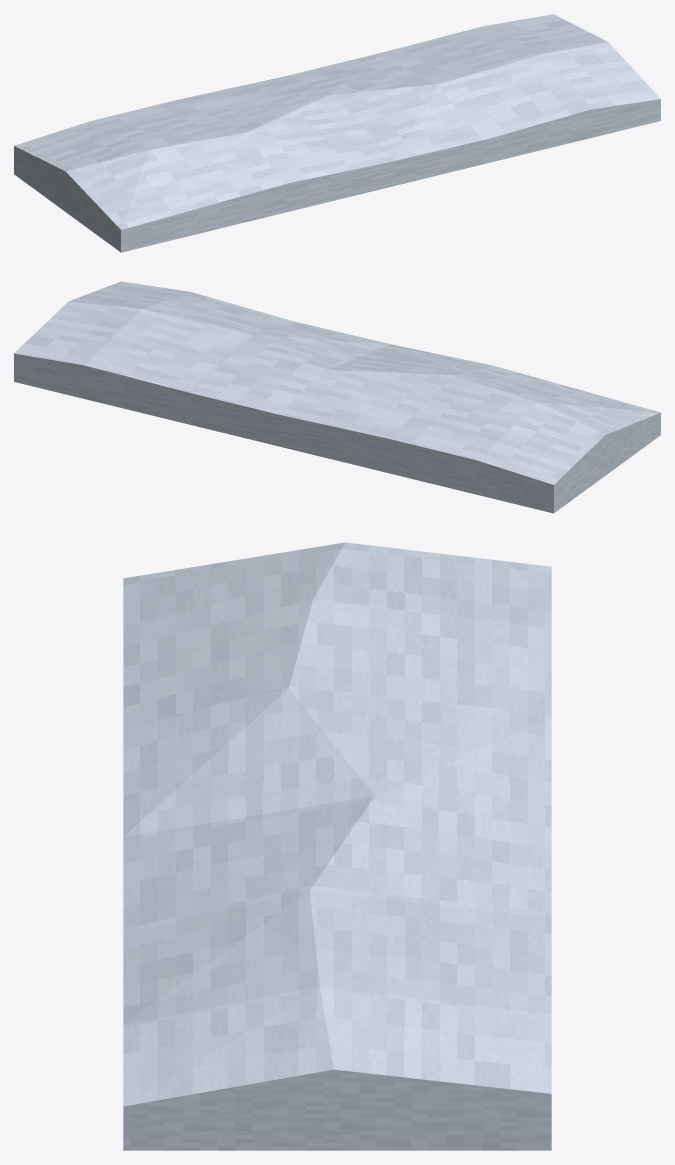
Rendered from snow_door_overhang.glb.
The picture shows the model from 3 angles, top to bottom: view 1: azimuth 30°, elevation 25°; view 2: azimuth 150°, elevation 25°; view 3: azimuth 270°, elevation 25°; orthographic projection. The views are drawn at different scales.
Visible parts, largest first — view 1: snow_door_overhang; view 2: snow_door_overhang; view 3: snow_door_overhang.
Boxes of the visible parts, x1,y1,x2,y2 form: snow_door_overhang: (14,14,660,252); snow_door_overhang: (14,281,660,513); snow_door_overhang: (123,542,551,1150).
Size of the model in its own units: 1.6 by 0.14 by 0.55.
Materials: 1 (1 with a texture image).
